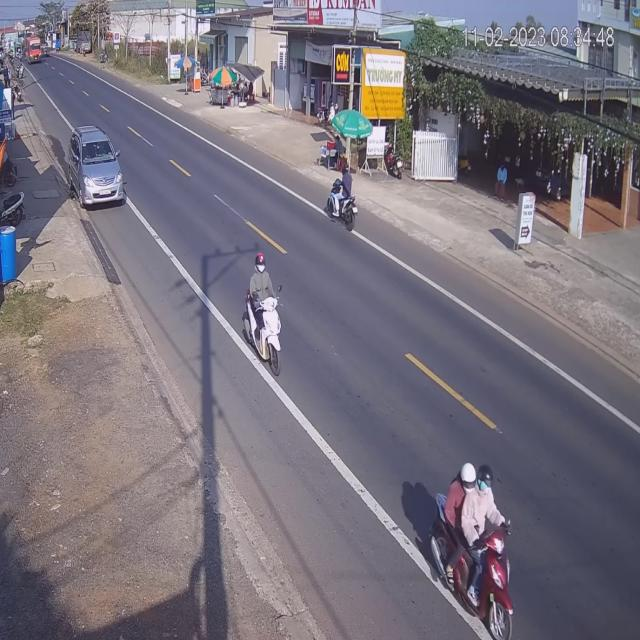car: (67, 128, 125, 212)
motorbike: (432, 459, 515, 639), (246, 253, 285, 379), (325, 172, 356, 236)
